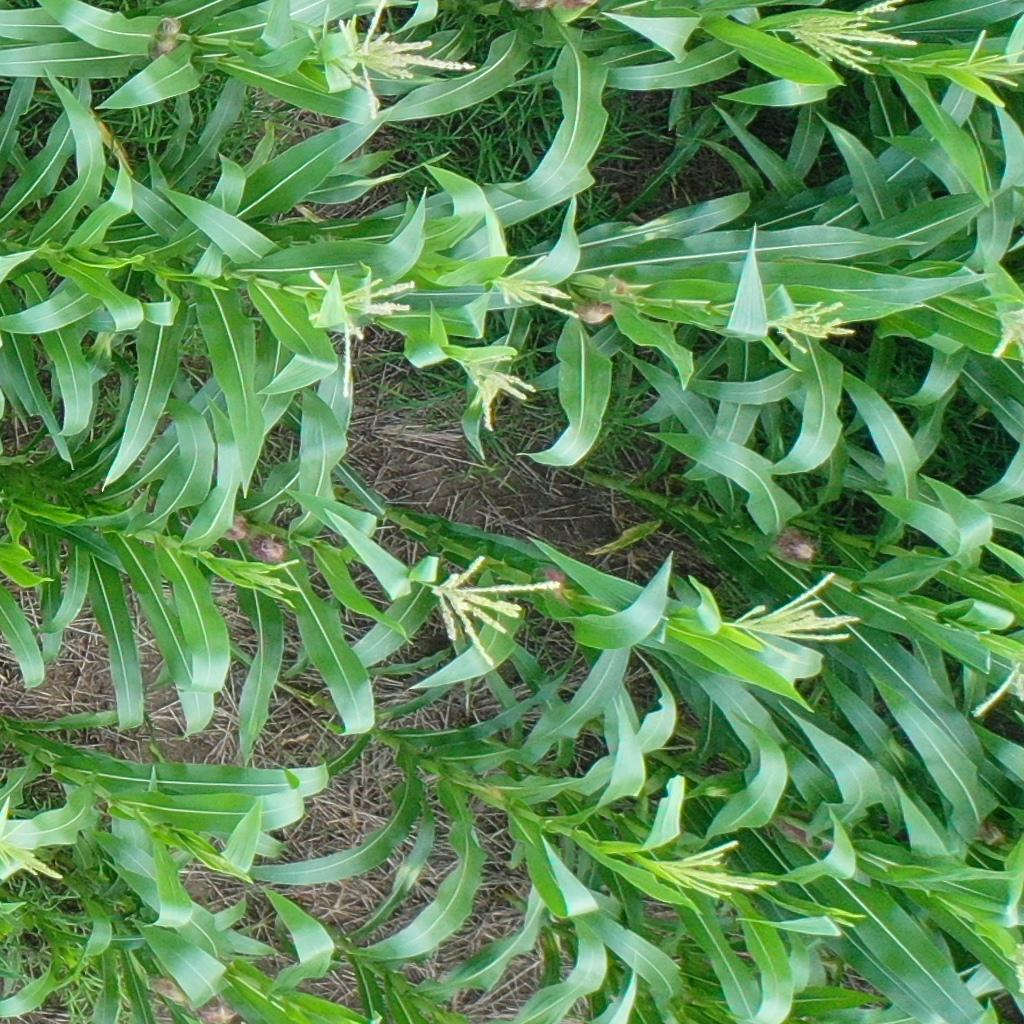Tassel: (299, 1, 472, 122), (425, 553, 558, 668), (307, 269, 414, 403), (779, 1, 921, 76), (733, 570, 862, 648), (648, 833, 772, 905), (459, 352, 541, 434), (491, 251, 579, 326), (759, 295, 857, 356), (1, 814, 65, 887), (954, 31, 1022, 98), (973, 649, 1024, 721), (239, 556, 302, 605), (992, 297, 1024, 366)
